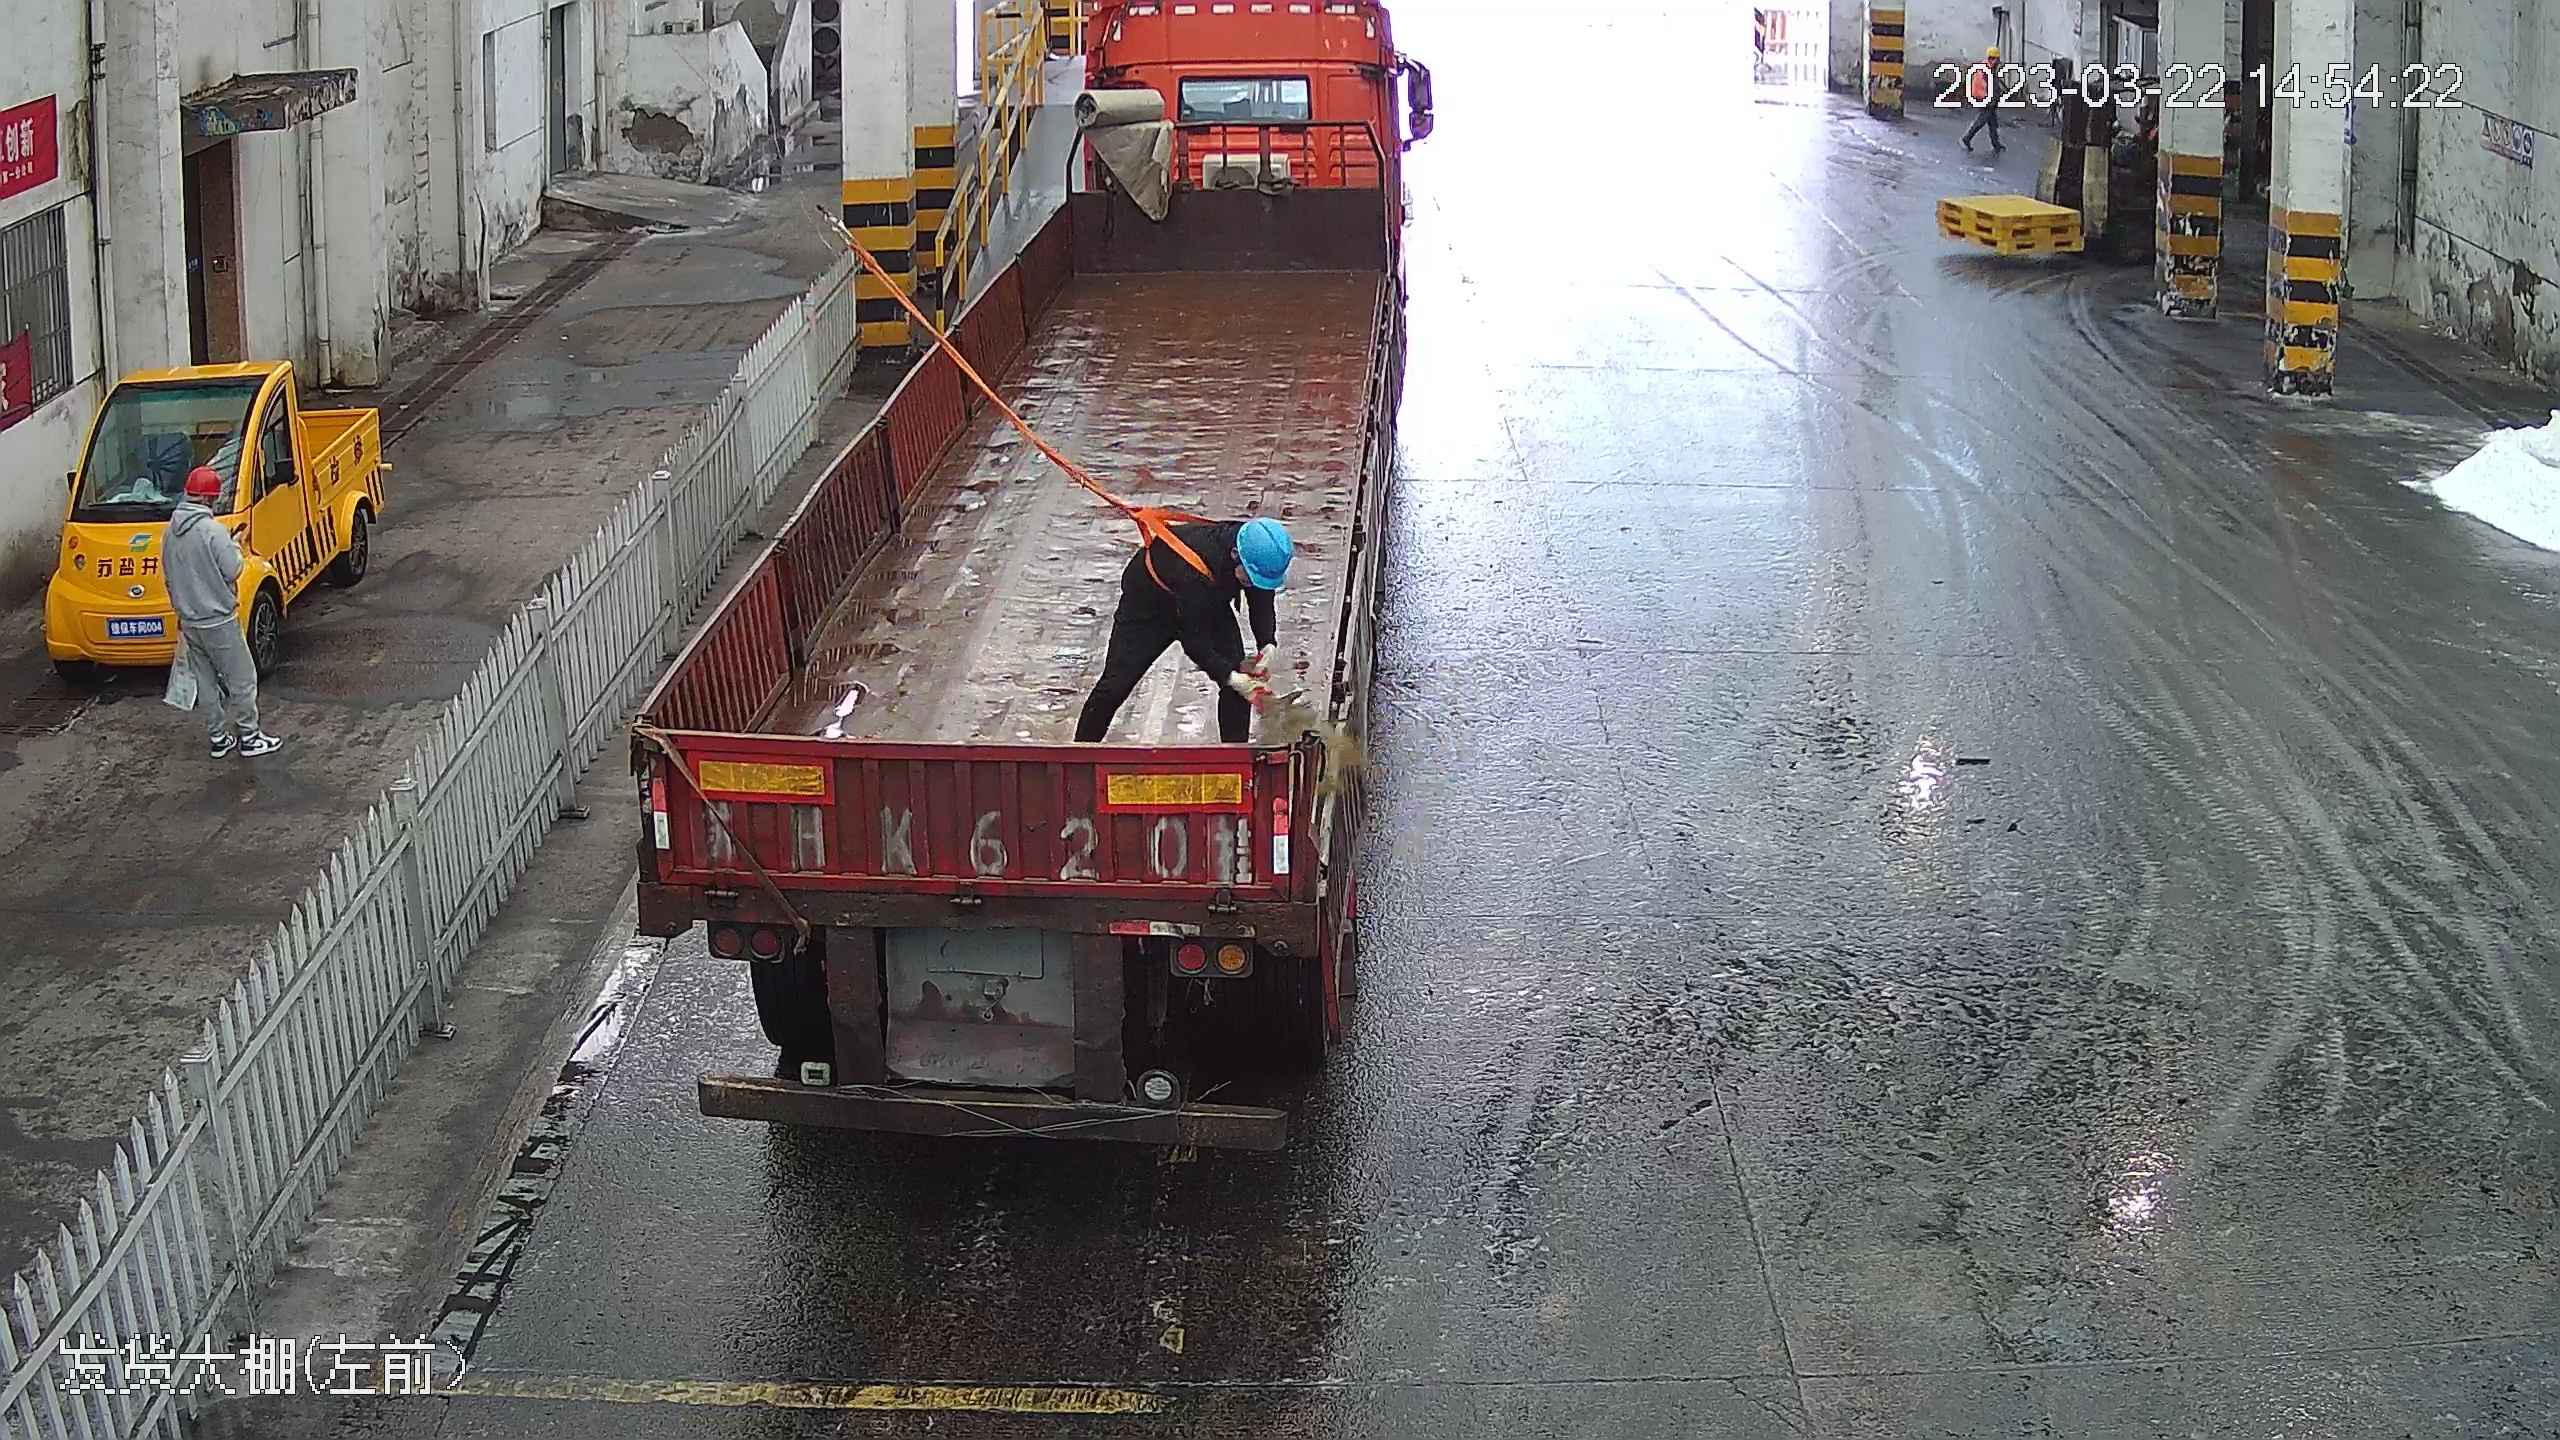belt: (1135, 500, 1227, 595)
head: (1174, 509, 1292, 605), (166, 460, 238, 555)
helmet: (1237, 513, 1293, 582), (184, 461, 226, 498)
people: (1080, 504, 1291, 746), (159, 459, 255, 753)
truck: (594, 0, 1413, 1137)
